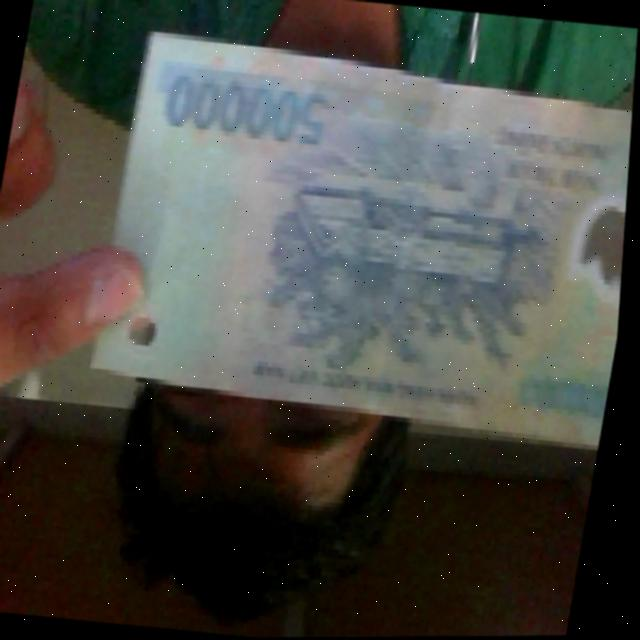500 000 VND: (78, 21, 639, 461)
